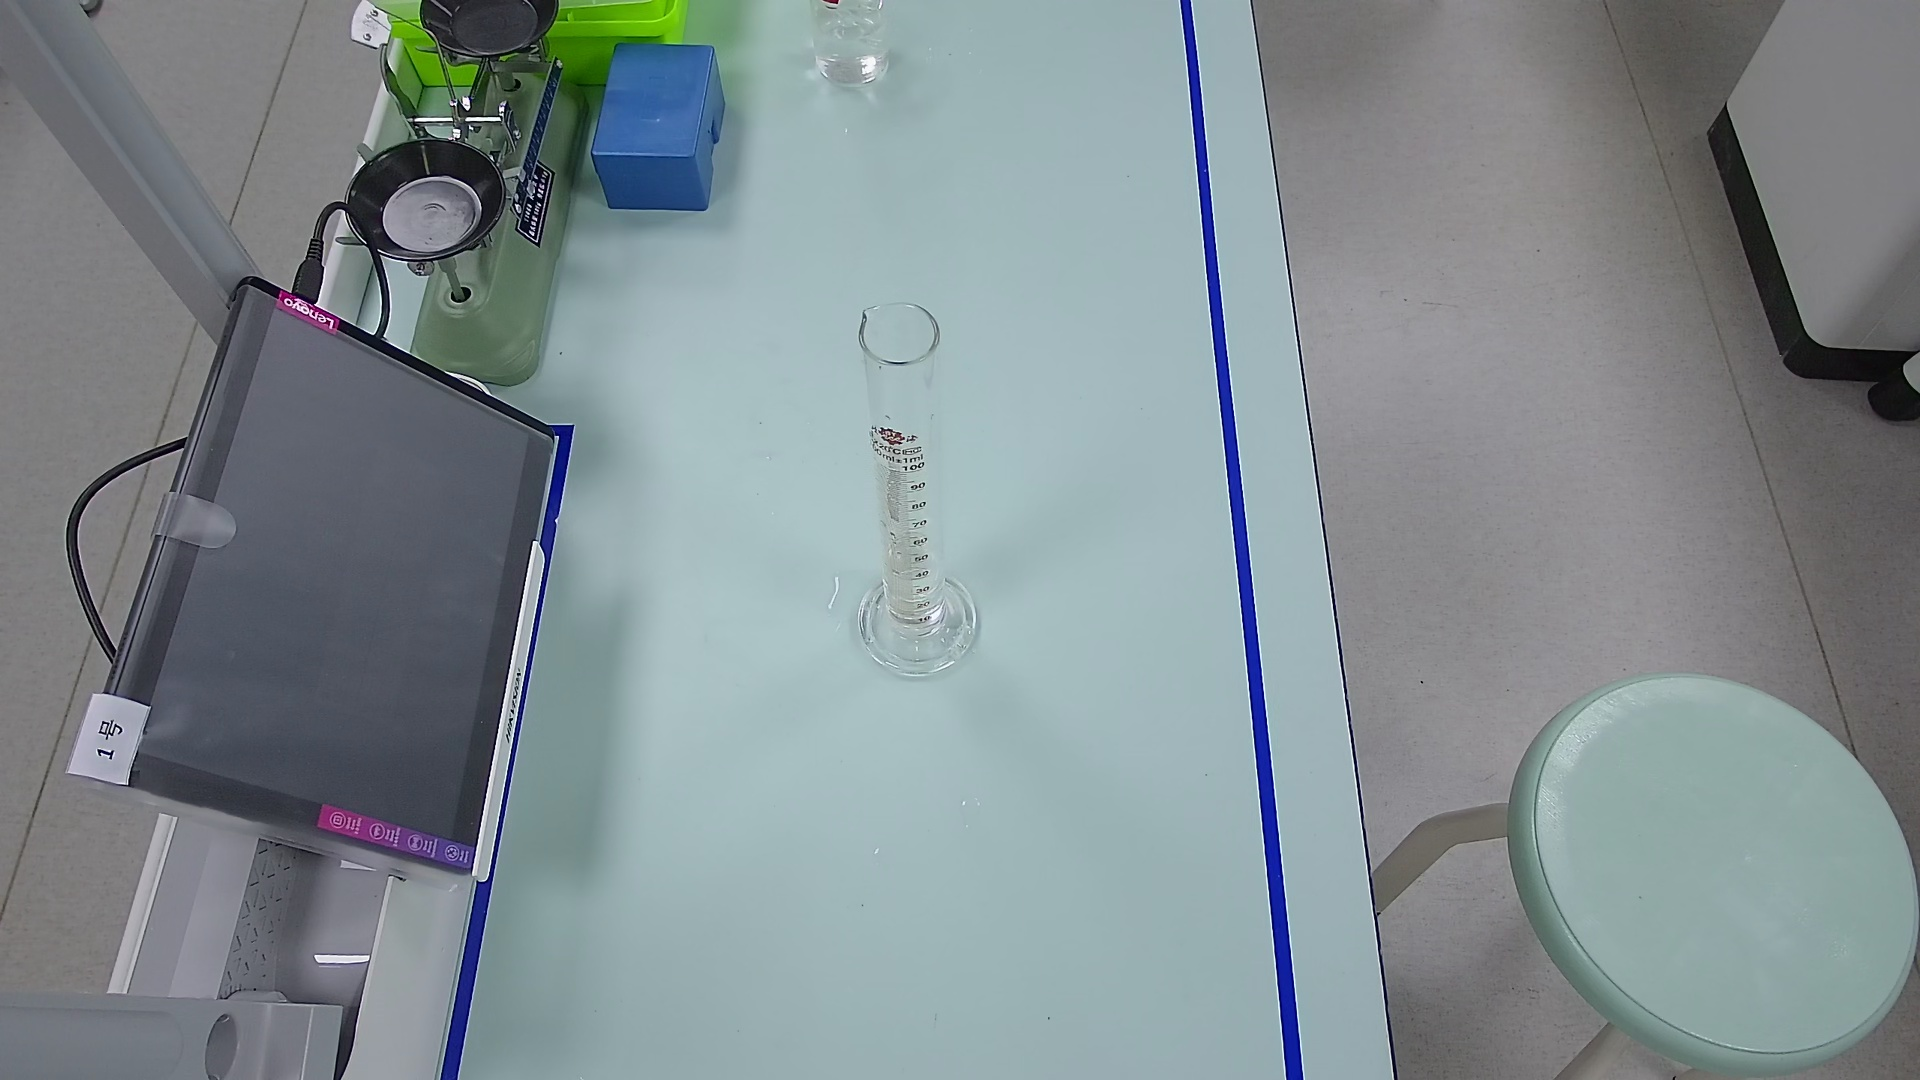bei: (808, 1, 889, 84)
liangdi: (857, 574, 981, 675)
liangtong: (857, 295, 982, 679)
tuo: (349, 142, 516, 264), (419, 1, 550, 57)
